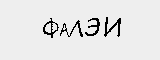А: (56, 20, 69, 41)
И: (104, 15, 122, 41)
Л: (69, 18, 83, 41)
Ф: (42, 17, 57, 43)
Э: (85, 15, 103, 39)
